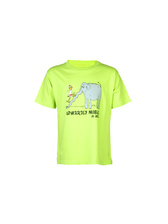clothoes: (35, 56, 137, 170)
